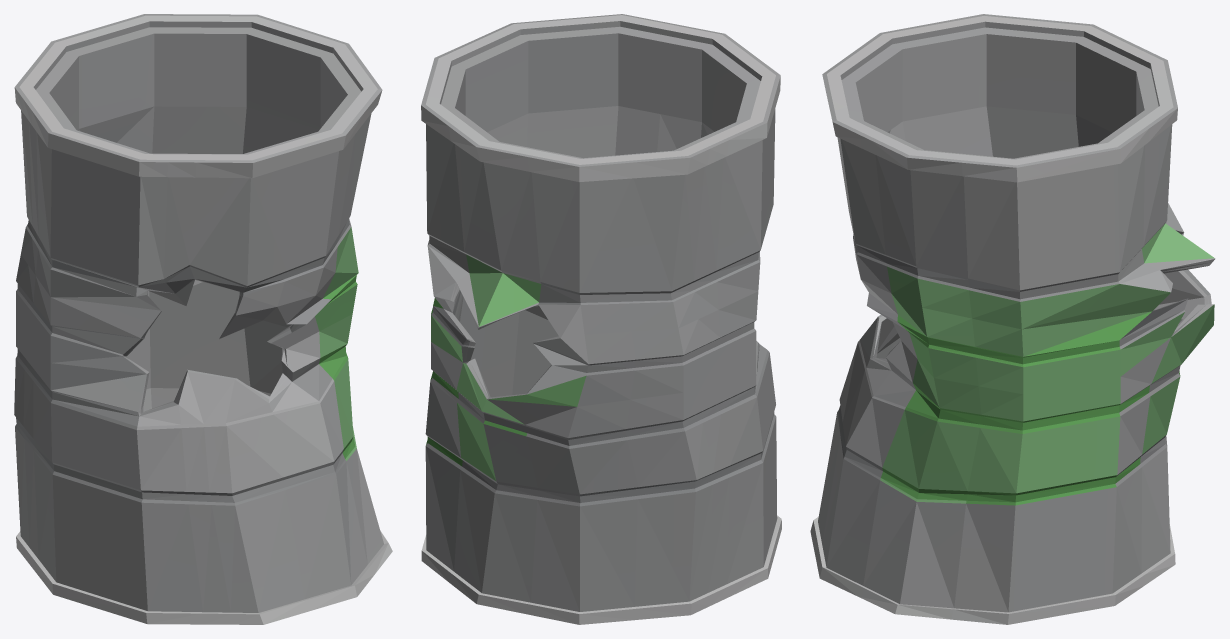
Rendered from shot_can_with_food_a.obj.
The picture shows the model from 3 angles, left to right: view 1: azimuth 30°, elevation 25°; view 2: azimuth 150°, elevation 25°; view 3: azimuth 270°, elevation 25°; orthographic projection.
Parts seen in each view (by area): view 1: shot_can_with_food_a_Material; view 2: shot_can_with_food_a_Material; view 3: shot_can_with_food_a_Material.
Boxes of the visible parts, x1,y1,x2,y2 form: shot_can_with_food_a_Material: (14,14,392,624); shot_can_with_food_a_Material: (421,14,781,624); shot_can_with_food_a_Material: (810,14,1215,624).
Bounding box in the file's own units: 0.1106 × 0.1517 × 0.122.
